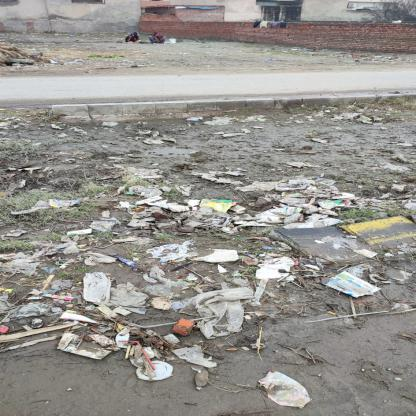Garbage: (46, 176, 374, 366)
